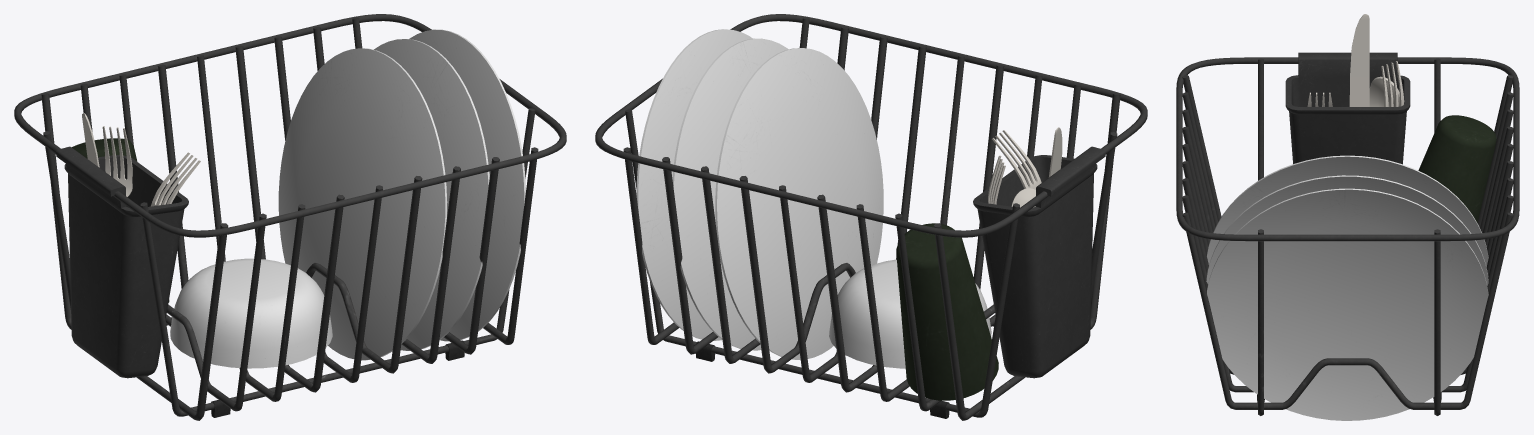
3 views of the same model, side by side, from view 1: azimuth 30°, elevation 25°; view 2: azimuth 150°, elevation 25°; view 3: azimuth 270°, elevation 25° (orthographic). The views are drawn at different scales.
Parts seen in each view (by area): view 1: DishRack, DishPlateC, DishPlateB, DishBowl, DishPlateA, UtensilForkA, UtensilForkB, DishCup; view 2: DishRack, DishPlateC, DishPlateB, DishCup, DishPlateA, DishBowl, UtensilForkB; view 3: DishPlateA, DishRack, DishPlateC, DishCup, DishPlateB, UtensilKnife, UtensilForkA, UtensilSpoon.
Boxes of the visible parts, x1,y1,x2,y2 form: DishRack: [14, 14, 566, 420]; DishPlateC: [278, 48, 447, 360]; DishPlateB: [374, 39, 489, 350]; DishBowl: [170, 258, 332, 368]; DishPlateA: [409, 29, 525, 341]; UtensilForkA: [102, 126, 132, 196]; UtensilForkB: [150, 152, 200, 206]; DishCup: [72, 138, 169, 302]; DishRack: [595, 14, 1147, 420]; DishPlateC: [715, 48, 883, 359]; DishPlateB: [672, 38, 788, 350]; DishCup: [896, 223, 998, 400]; DishPlateA: [636, 29, 752, 340]; DishBowl: [829, 259, 991, 368]; UtensilForkB: [992, 130, 1041, 189]; DishPlateA: [1207, 188, 1488, 420]; DishRack: [1176, 52, 1519, 415]; DishPlateC: [1207, 155, 1488, 266]; DishCup: [1418, 115, 1496, 222]; DishPlateB: [1206, 175, 1488, 285]; UtensilKnife: [1349, 14, 1369, 106]; UtensilForkA: [1381, 61, 1404, 106]; UtensilSpoon: [1369, 76, 1399, 106].
Bounding box in the file's own units: 0.42 × 0.2829 × 0.3352.
Materials: 1 (1 with a texture image).
